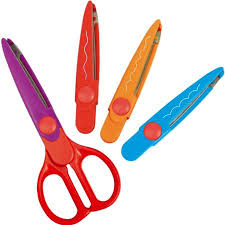tihiras: (1, 37, 121, 223)
